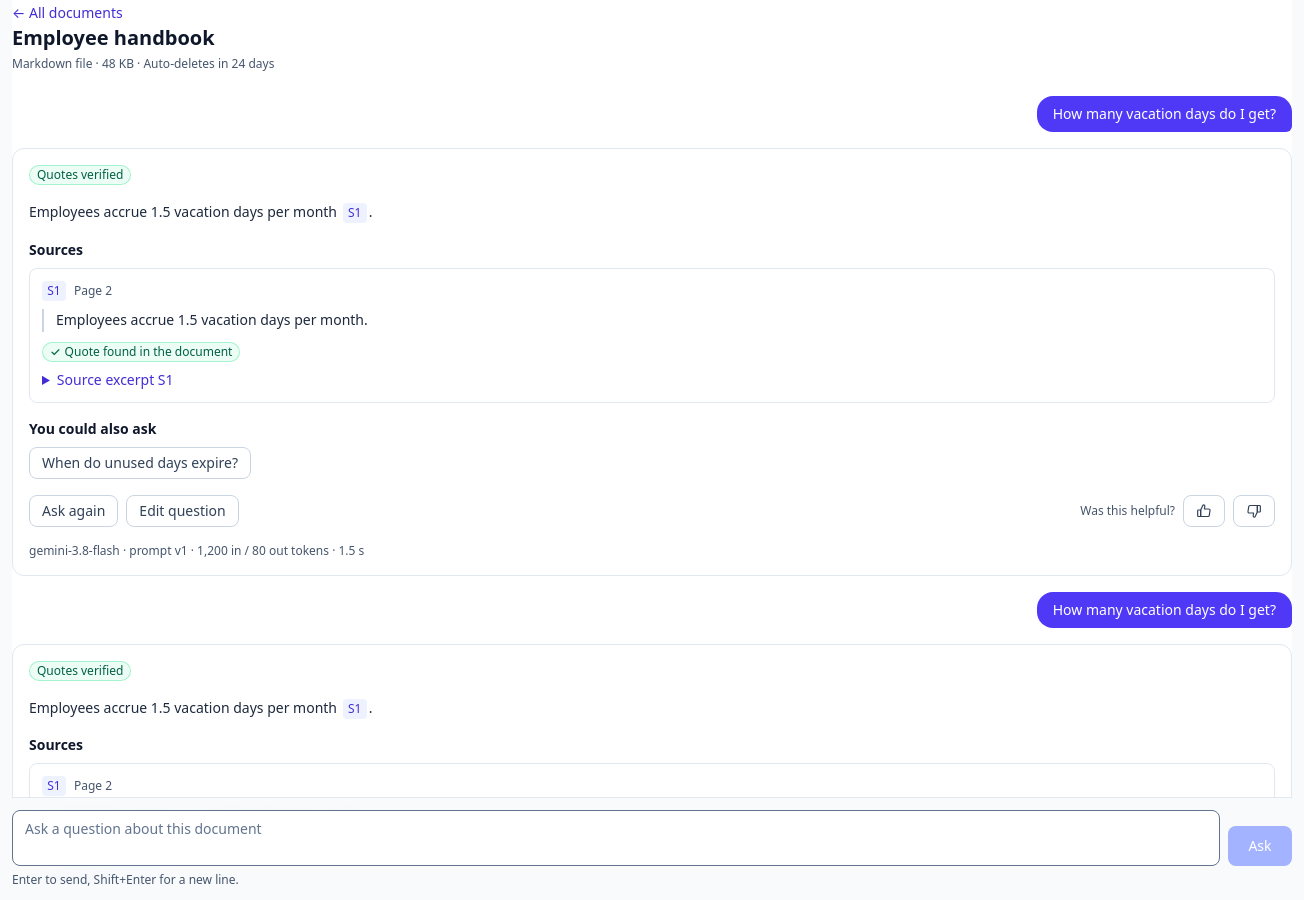
ChatView: while an answer streams in › does not draw the stored answers again for every word that arrives
Type "And what about sick leave?" into the text box named "Your question".
click(616, 838); type("And what about sick leave?")  # box [12, 810, 1220, 866]
(page scrolled)
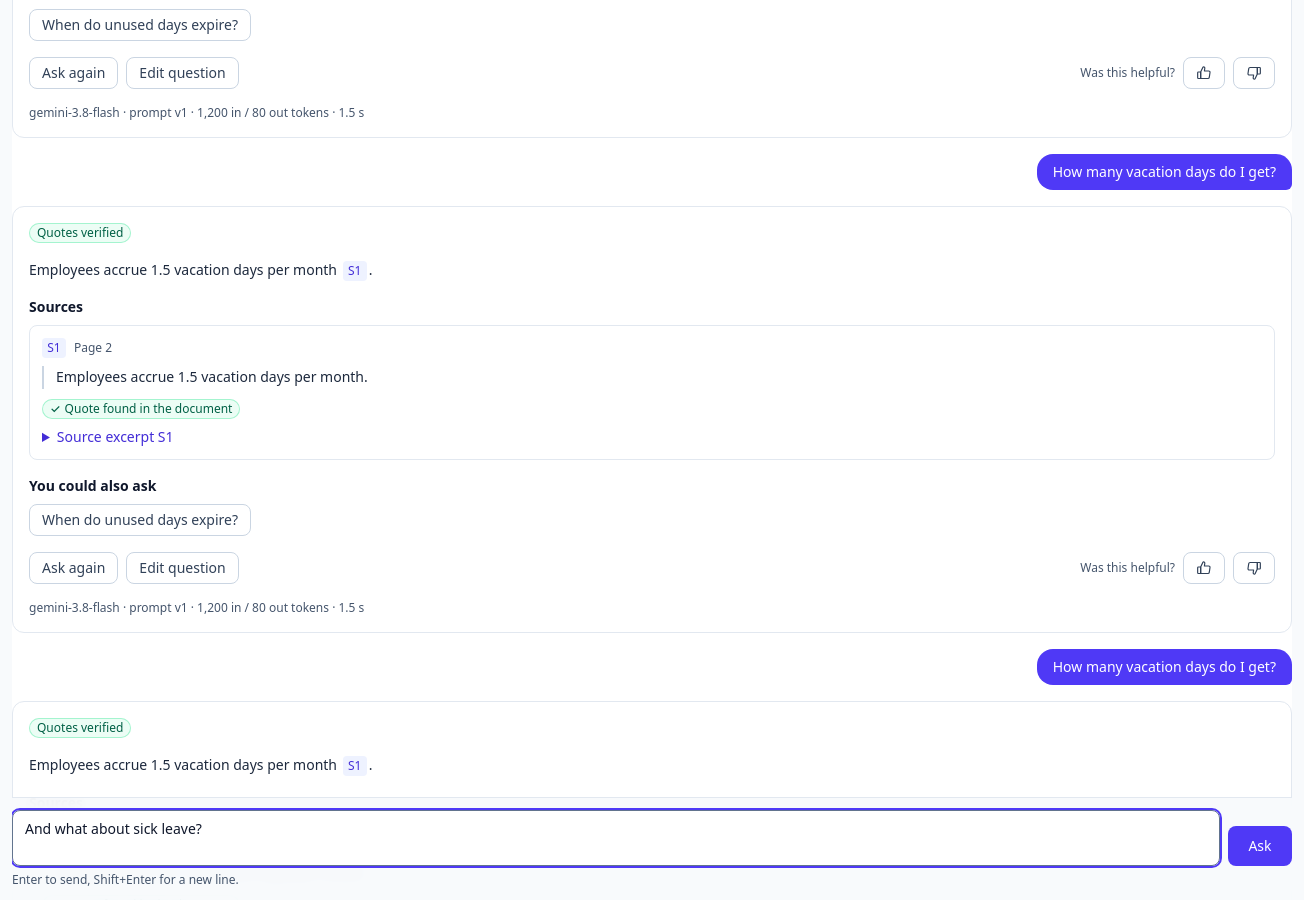
Press Enter
(page scrolled)
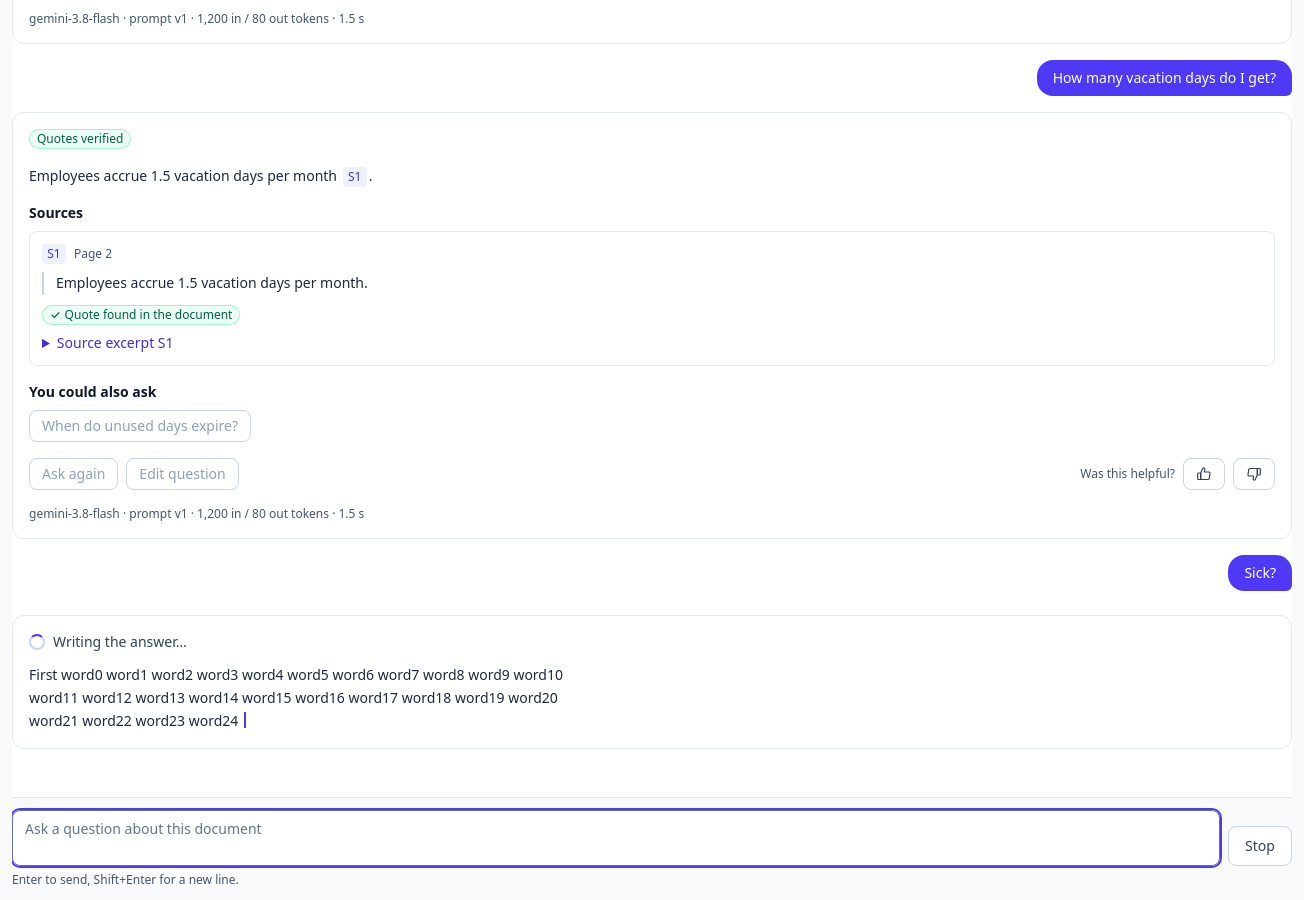
Result: the text "word24" is shown at [29, 665, 567, 730]
